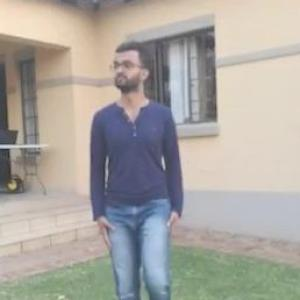follow: (91, 39, 180, 296)
